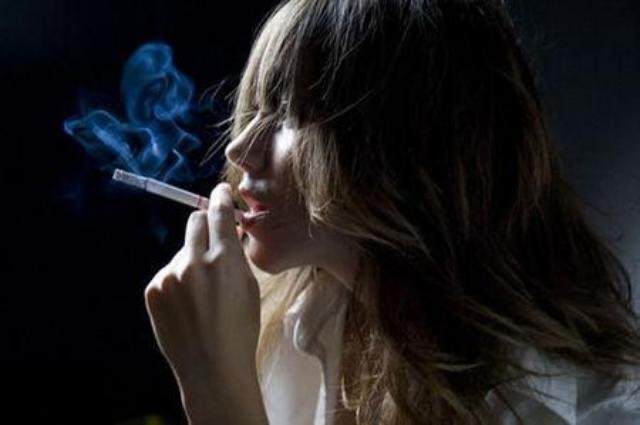Smoking: (107, 164, 213, 216)
